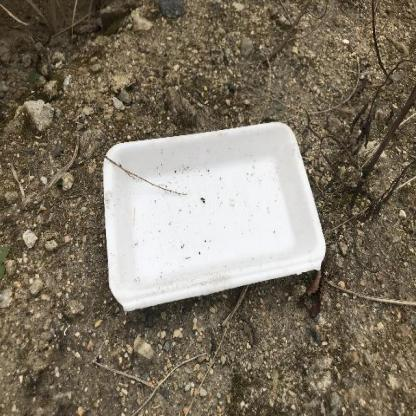Glass Cup: (102, 122, 326, 312), (103, 122, 326, 311)
